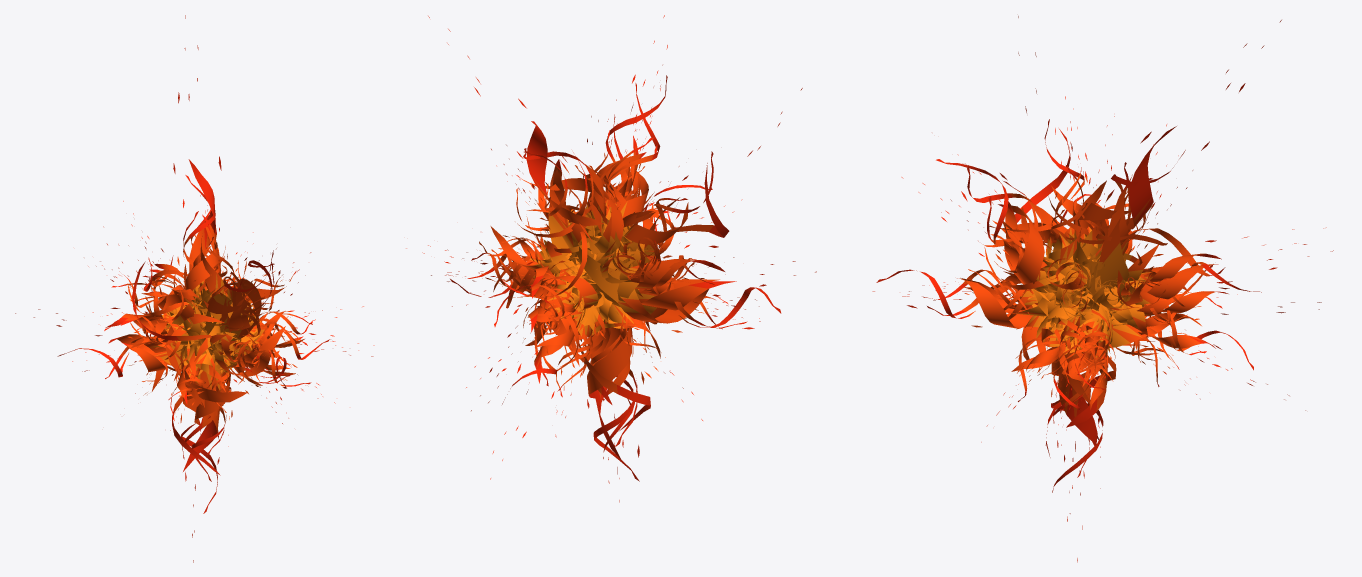
File: fireball_11.obj
The picture shows the model from 3 angles, left to right: view 1: azimuth 30°, elevation 25°; view 2: azimuth 150°, elevation 25°; view 3: azimuth 270°, elevation 25°; orthographic projection. The views are drawn at different scales.
Parts seen in each view (by area): view 1: Fireball; view 2: Fireball; view 3: Fireball.
Boxes of the visible parts, box(x1,y1,x2,y2) form: Fireball: box(15, 15, 374, 562); Fireball: box(406, 15, 816, 502); Fireball: box(872, 16, 1333, 562).
Bounding box in the file's own units: 1.73 × 2.28 × 1.76.
